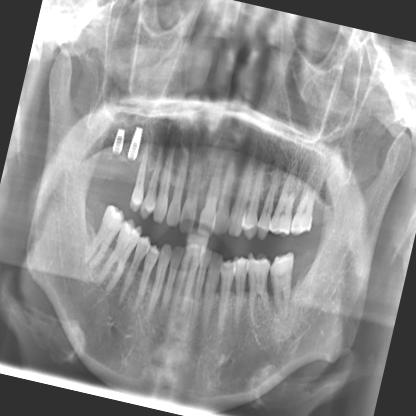Bicon: (126, 123, 144, 163), (112, 127, 126, 155)
